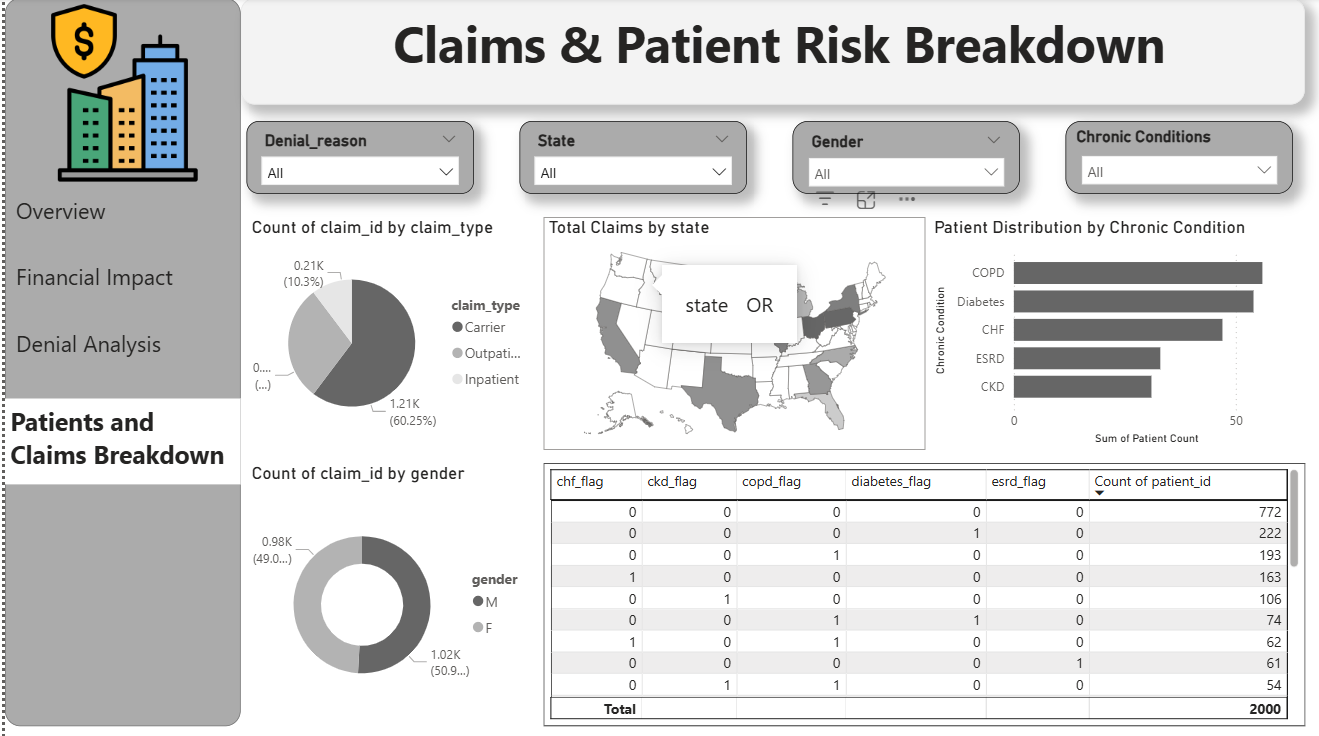

The dashboard page shown, as its layout file describes it:
{"tool":"powerbi","page":{"name":"patients and claims breakdown","canvas":[1280,720],"ordinal":3},"visuals":[{"type":"pieChart","fields":{"Y":["CountNonNull(claims_project_claims.claim_id)"],"Category":["claims_project_claims.claim_type"]},"box":[234.9,212.7,287.6,224.8],"z":0},{"type":"donutChart","fields":{"Y":["CountNonNull(claims_project_claims.claim_id)"],"Category":["claims_project_patients.gender"]},"box":[234.9,451.6,287.6,255.2],"z":1000},{"type":"shapeMap","fields":{"Category":["claims_project_patients.state"],"Value":["claims_project_claims.Total Claims"]},"box":[522.5,212.7,370.6,224.8],"z":2000},{"type":"tableEx","fields":{"Values":["claims_project_patients.chf_flag","claims_project_patients.ckd_flag","claims_project_patients.copd_flag","claims_project_patients.diabetes_flag","claims_project_patients.esrd_flag","CountNonNull(claims_project_claims.patient_id)"]},"box":[522.5,451.6,739.2,255.2],"z":3000},{"type":"barChart","title":"Patient Distribution by Chronic Condition","fields":{"Category":["ChronicConditionDistribution.Chronic Condition"],"Y":["Sum(ChronicConditionDistribution.Patient Count)"]},"box":[897.2,212.7,352.4,224.8],"z":4000},{"type":"textbox","box":[228.9,0,1032.9,103.3],"z":5000},{"type":"slicer","fields":{"Values":["claims_project_claims.denial_reason"]},"box":[234.9,119.5,220.8,70.9],"z":6000},{"type":"slicer","fields":{"Values":["claims_project_providers.state"]},"box":[499.6,119.5,220.8,70.9],"z":7000},{"type":"slicer","fields":{"Values":["claims_project_patients.gender"]},"box":[764.2,119.5,220.8,70.9],"z":8000},{"type":"slicer","title":"Chronic Conditions","fields":{"Values":["claims_project_patients.chf_flag","claims_project_patients.ckd_flag","claims_project_patients.copd_flag","claims_project_patients.diabetes_flag","claims_project_patients.esrd_flag"]},"box":[1028.9,119.5,220.8,70.9],"z":9000},{"type":"textbox","box":[0,0,228.9,706.8],"z":10000},{"type":"textbox","box":[0,388.9,228.9,83],"z":11000},{"type":"image","box":[14.2,0,202.5,184.3],"z":12000}]}

Visuals, with their boxes in screenshot pixels (x1, y1, x2, y2), scaled from the page's 1280x720 canvas onto the 1319x736 screenshot:
pieChart - CountNonNull(claims_project_claims.claim_id) x claims_project_claims.claim_type: bbox=[242, 217, 538, 447]
donutChart - CountNonNull(claims_project_claims.claim_id) x claims_project_patients.gender: bbox=[242, 462, 538, 723]
shapeMap - claims_project_patients.state x claims_project_claims.Total Claims: bbox=[538, 217, 920, 447]
tableEx - claims_project_patients.chf_flag x claims_project_patients.ckd_flag: bbox=[538, 462, 1300, 723]
"Patient Distribution by Chronic Condition" barChart: bbox=[925, 217, 1288, 447]
textbox: bbox=[236, 0, 1300, 106]
slicer - claims_project_claims.denial_reason: bbox=[242, 122, 470, 195]
slicer - claims_project_providers.state: bbox=[515, 122, 742, 195]
slicer - claims_project_patients.gender: bbox=[787, 122, 1015, 195]
"Chronic Conditions" slicer: bbox=[1060, 122, 1288, 195]
textbox: bbox=[0, 0, 236, 723]
textbox: bbox=[0, 398, 236, 482]
image: bbox=[15, 0, 223, 188]
